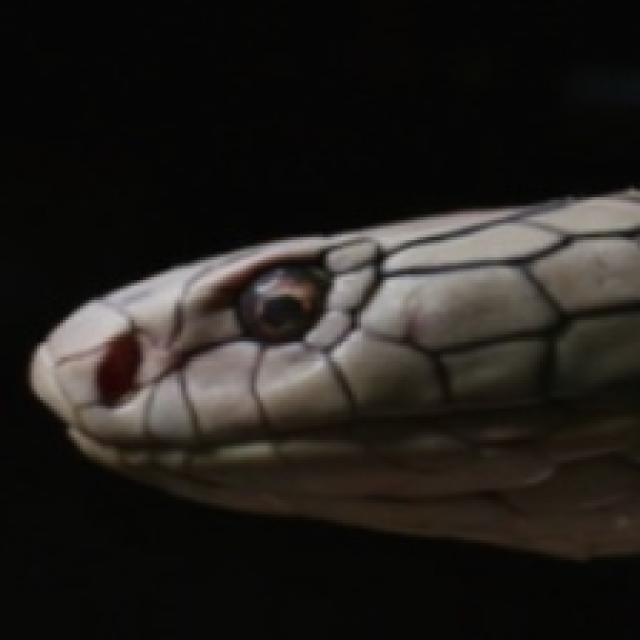king cobra: (31, 191, 637, 557)
